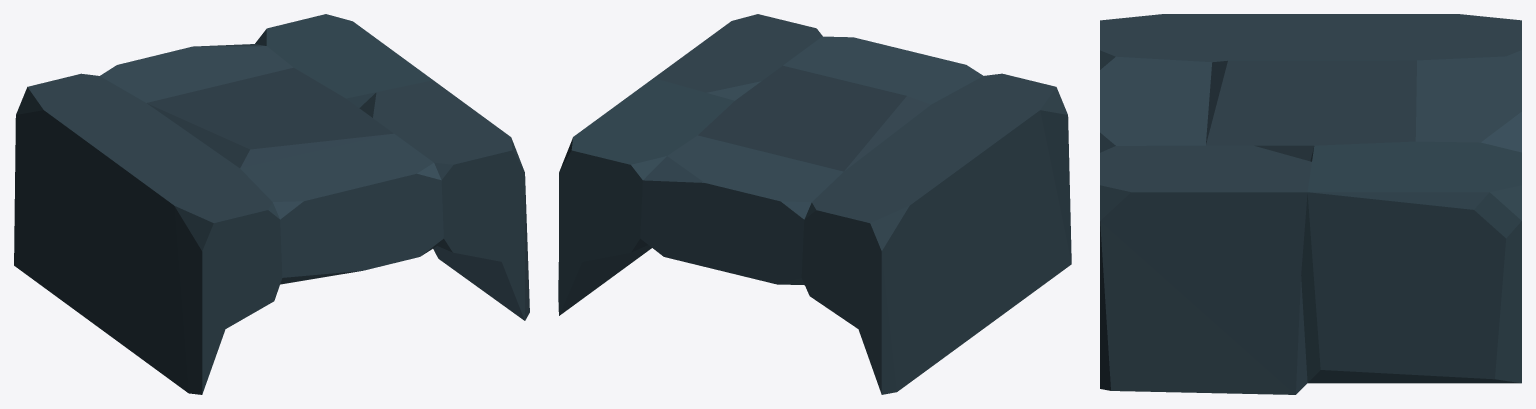
File: corridor_roof_wide2.fbx
The picture shows the model from 3 angles, left to right: view 1: azimuth 30°, elevation 25°; view 2: azimuth 150°, elevation 25°; view 3: azimuth 270°, elevation 25°; orthographic projection. The views are drawn at different scales.
Parts seen in each view (by area): view 1: corridor_roof_wide2; view 2: corridor_roof_wide2; view 3: corridor_roof_wide2.
Part boxes in pixels (box(x1,y1,x2,y2)): corridor_roof_wide2: box(14, 14, 529, 394); corridor_roof_wide2: box(558, 14, 1071, 394); corridor_roof_wide2: box(1100, 14, 1521, 394).
Bounding box in the file's own units: 213 × 109 × 200.
